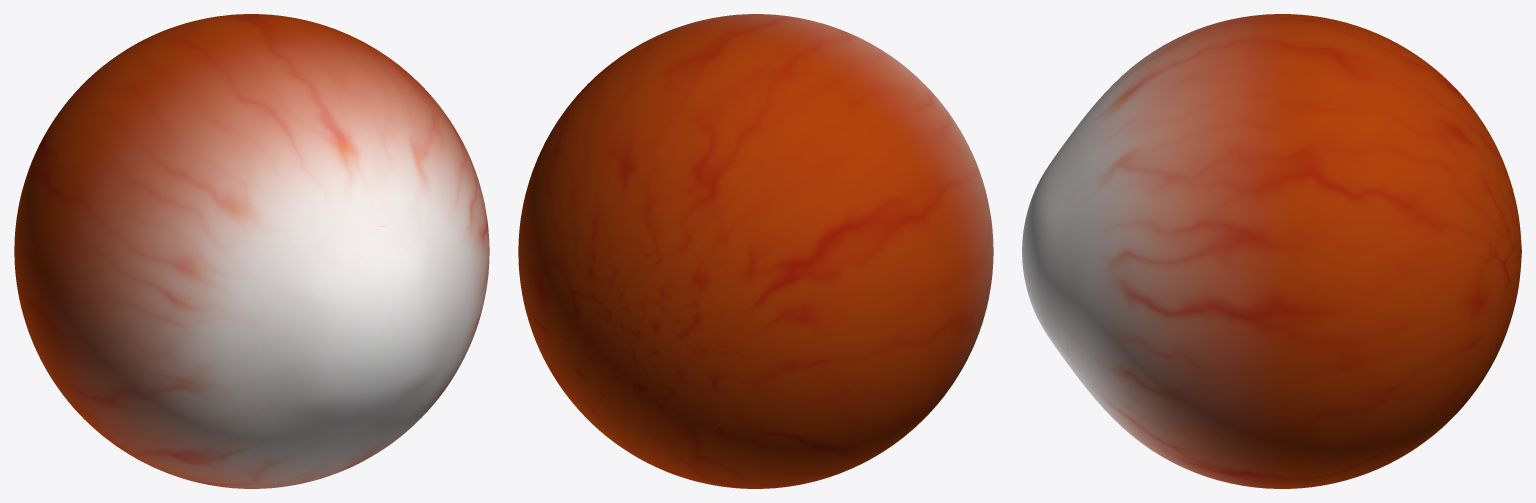
3 renders of one model, left to right at view 1: azimuth 30°, elevation 25°; view 2: azimuth 150°, elevation 25°; view 3: azimuth 270°, elevation 25°, orthographic.
Visible parts, largest first — view 1: Eye; view 2: Eye; view 3: Eye.
Boxes of the visible parts, box(x1,y1,x2,y2) form: Eye: box(14, 14, 489, 488); Eye: box(518, 14, 993, 488); Eye: box(1022, 14, 1521, 488).
Size of the model in its own units: 1.95 by 1.95 by 2.06.
